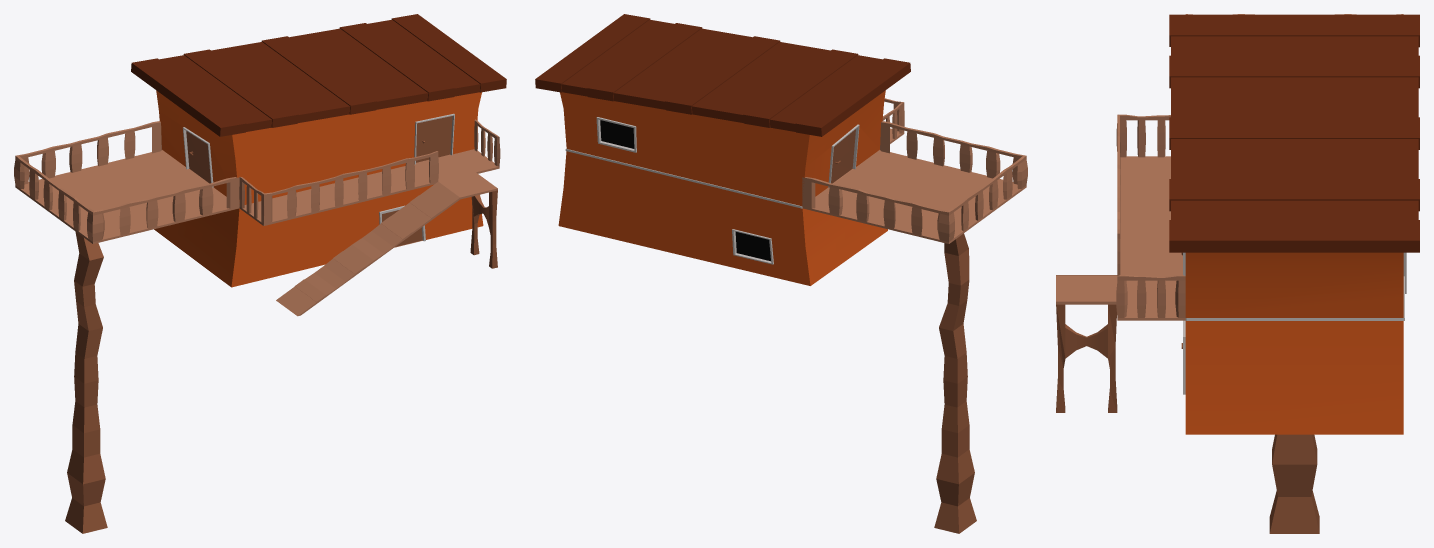
File: Immeuble.FBX
3 renders of one model, left to right at view 1: azimuth 30°, elevation 25°; view 2: azimuth 150°, elevation 25°; view 3: azimuth 270°, elevation 25°, orthographic. The views are drawn at different scales.
Parts seen in each view (by area): view 1: Immeuble; view 2: Immeuble; view 3: Immeuble.
Boxes of the visible parts, bbox=[...] form: Immeuble: bbox=[14, 14, 506, 533]; Immeuble: bbox=[535, 14, 1027, 533]; Immeuble: bbox=[1056, 14, 1419, 533].
Size of the model in its own units: 958 by 912 by 525.
